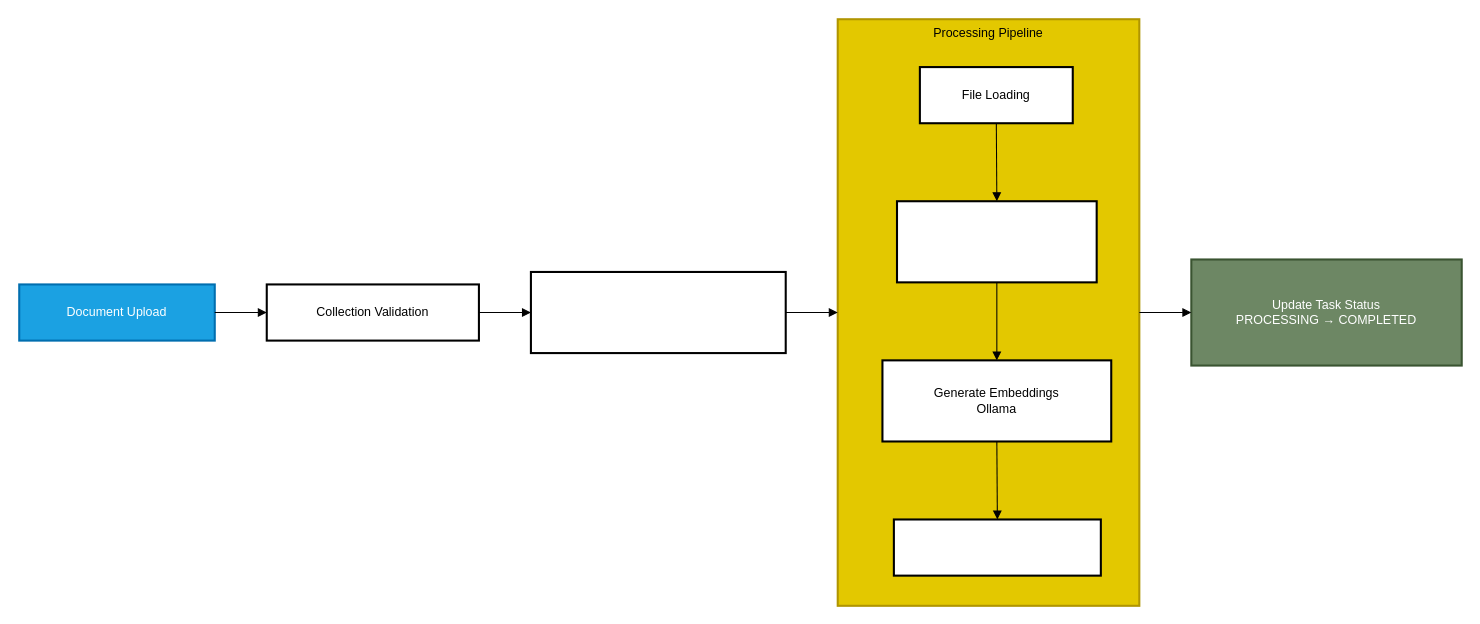
The diagram is 1480 pixels wide and 624 high, and some of its shapes have lost their labels. Here are the shapes that lost their labels. From the top down, the centre of each, then its label:
the point at 996,241: Chunking Strategy size/overlap
the point at 657,312: Create Task Record UUID + Status: STARTED
the point at 996,547: Store in ChromaDB
